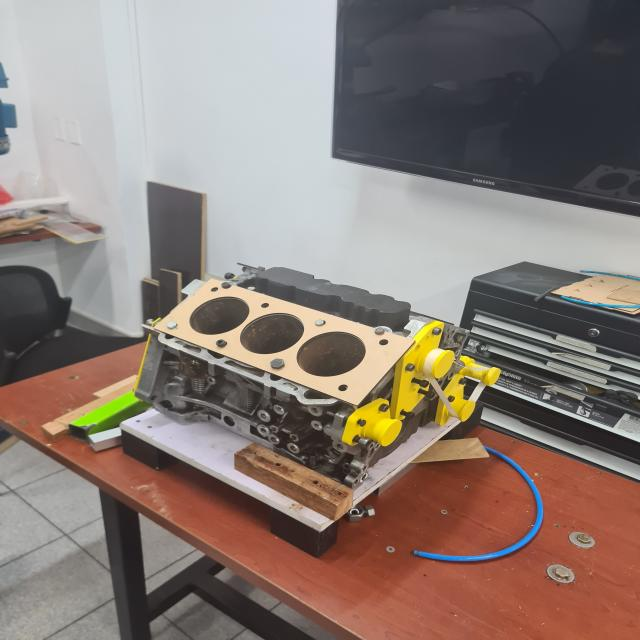vista1: (152, 278, 416, 405)
